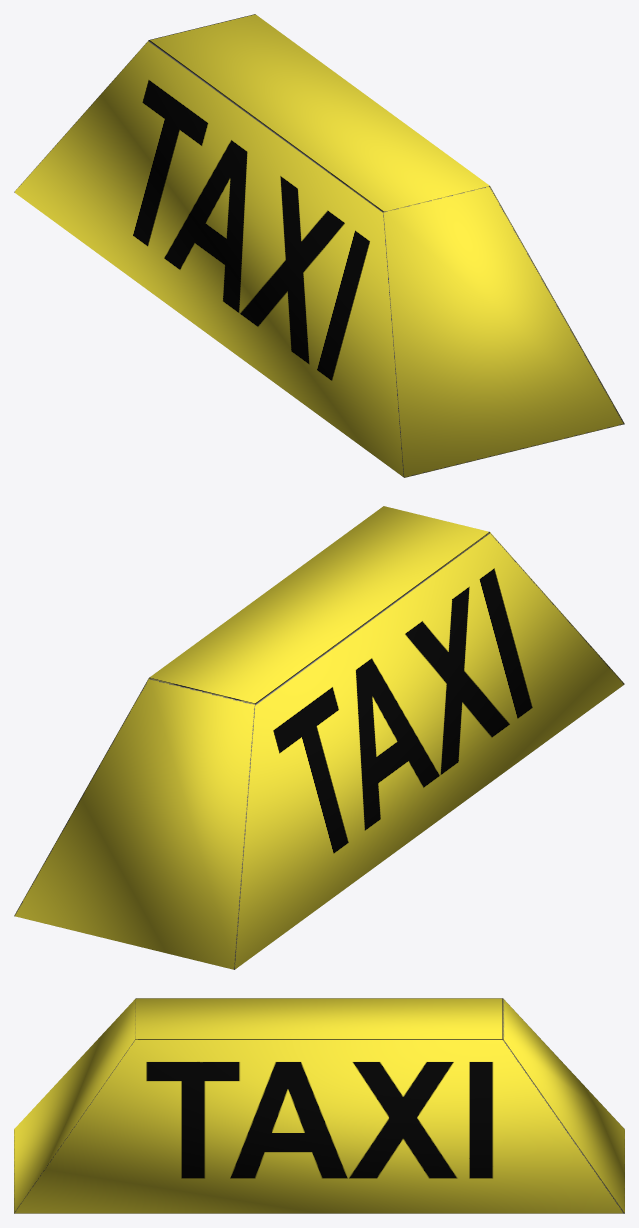
Rendered from taxiTop.fbx.
The picture shows the model from 3 angles, top to bottom: view 1: azimuth 30°, elevation 25°; view 2: azimuth 150°, elevation 25°; view 3: azimuth 270°, elevation 25°; orthographic projection. The views are drawn at different scales.
Visible parts, largest first — view 1: Cube; view 2: Cube; view 3: Cube.
Boxes of the visible parts, x1,y1,x2,y2 form: Cube: [14, 14, 624, 477]; Cube: [14, 506, 624, 969]; Cube: [14, 998, 624, 1213].
Bounding box in the file's own units: 0.4466 × 0.3777 × 1.37.
Materials: 1 (1 with a texture image).
